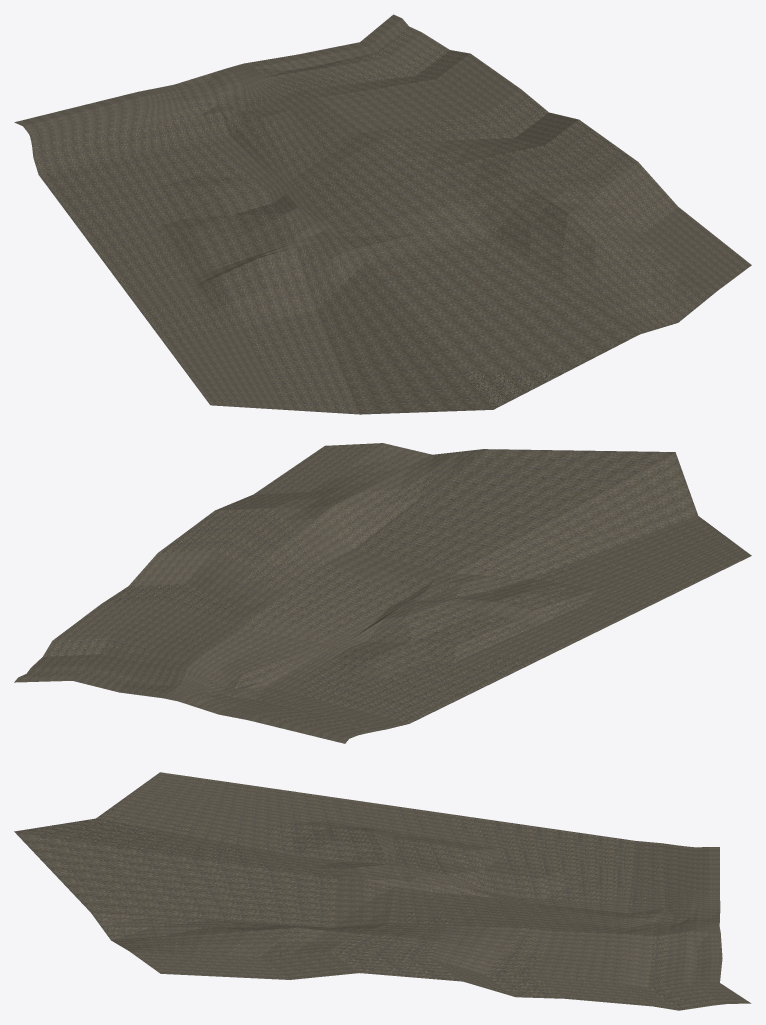
File: groundMesh.obj
3 views of the same model, one above another, from view 1: azimuth 30°, elevation 25°; view 2: azimuth 150°, elevation 25°; view 3: azimuth 270°, elevation 25° (orthographic). The views are drawn at different scales.
Parts seen in each view (by area): view 1: Plane; view 2: Plane; view 3: Plane.
Boxes of the visible parts, x1,y1,x2,y2 form: Plane: (14,14,751,414); Plane: (14,443,751,743); Plane: (14,772,751,1010).
Bounding box in the file's own units: 952 × 70.91 × 1350.
